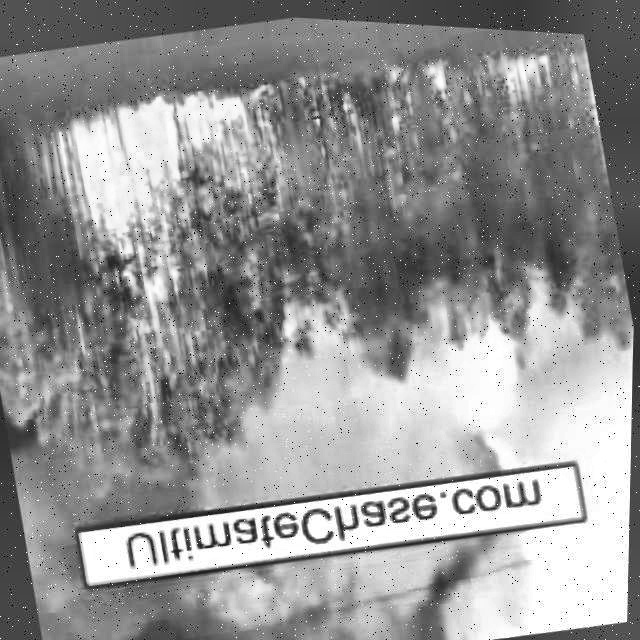Fire: (38, 70, 292, 323), (372, 51, 456, 137), (486, 38, 561, 100)
Smoke: (169, 247, 636, 527), (35, 493, 564, 640)
